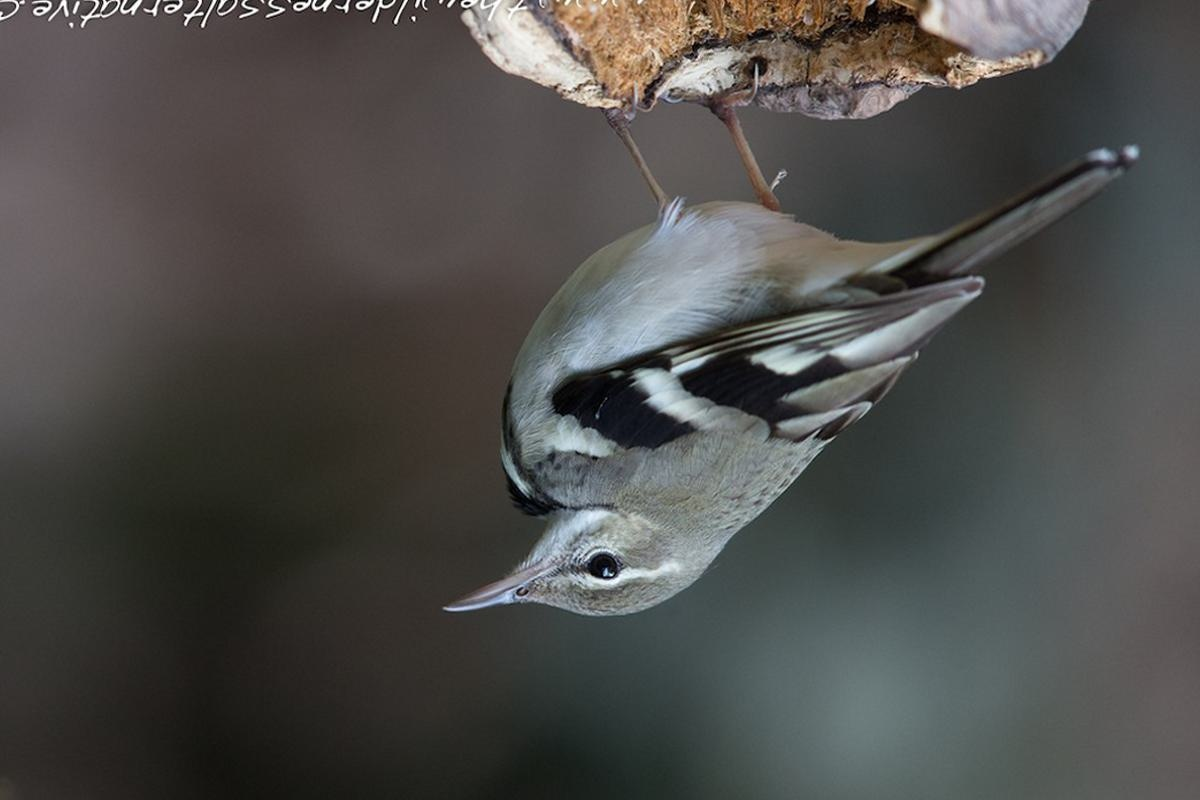wagtail: (439, 112, 1089, 628)
